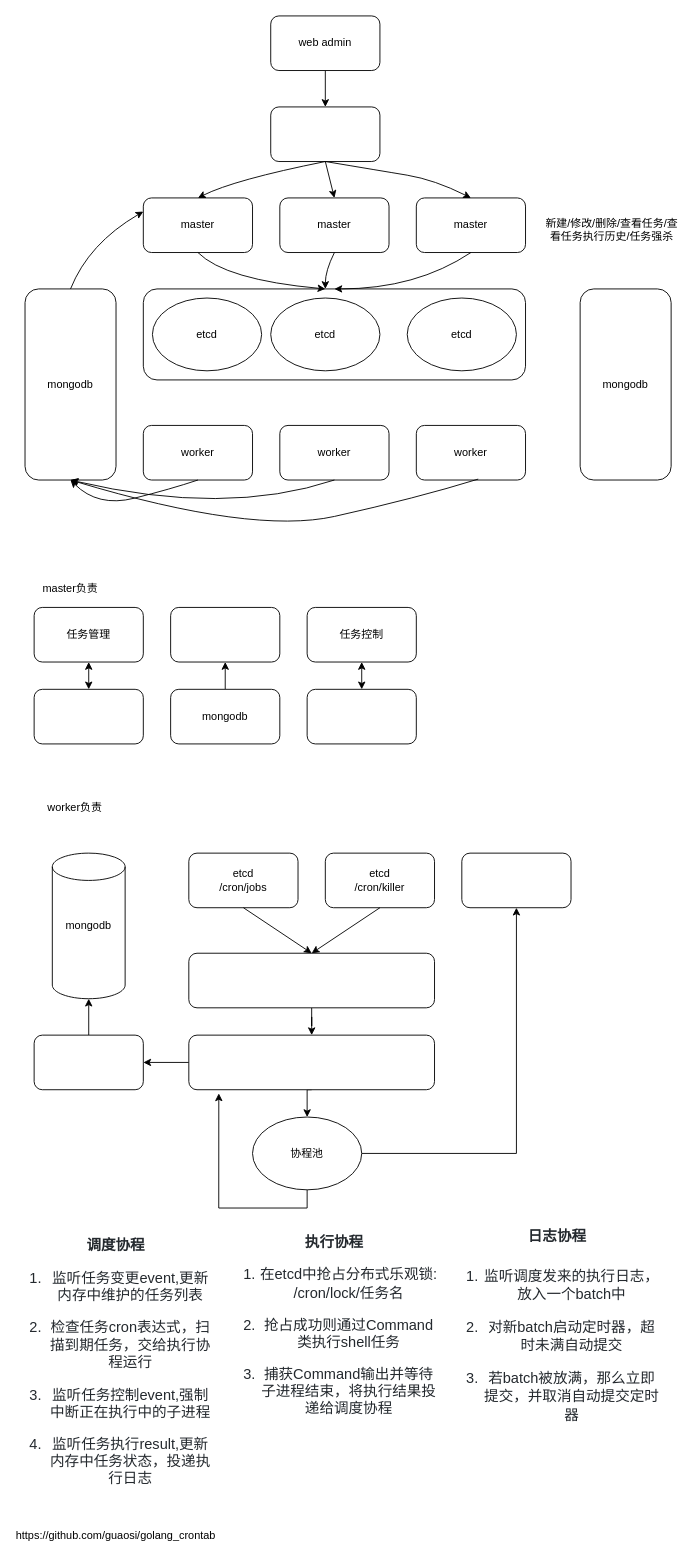
The diagram is 695 pixels wide and 1561 high, and some of its shapes have lost their labels. Here are the shapes that lost their labels. From the top down, the box of each, then its label:
(270, 106, 380, 162): nginx
(170, 607, 280, 662): 任务日志
(33, 688, 143, 744): /cron/jobs
(306, 688, 416, 744): /cron/killer
(461, 852, 571, 908): etcd /lock
(188, 952, 435, 1008): 监听协程
(33, 1034, 143, 1090): 日志协程
(188, 1034, 435, 1090): 任务调度
